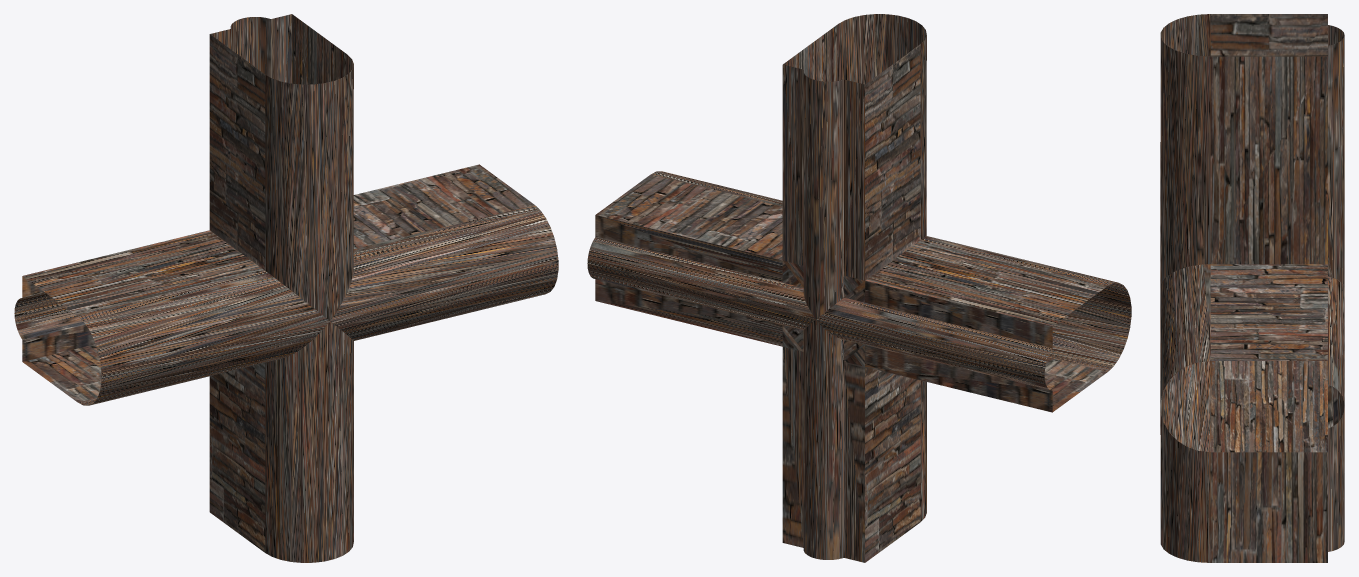
File: T130_X_5m_dark_brick.dae
3 renders of one model, left to right at view 1: azimuth 30°, elevation 25°; view 2: azimuth 150°, elevation 25°; view 3: azimuth 270°, elevation 25°, orthographic. The views are drawn at different scales.
Visible parts, largest first — view 1: node; view 2: node; view 3: node.
Boxes of the visible parts, bbox=[...] form: node: bbox=[14, 14, 558, 562]; node: bbox=[587, 14, 1131, 562]; node: bbox=[1160, 14, 1344, 562].
Bounding box in the file's own units: 5 × 5 × 1.65.
